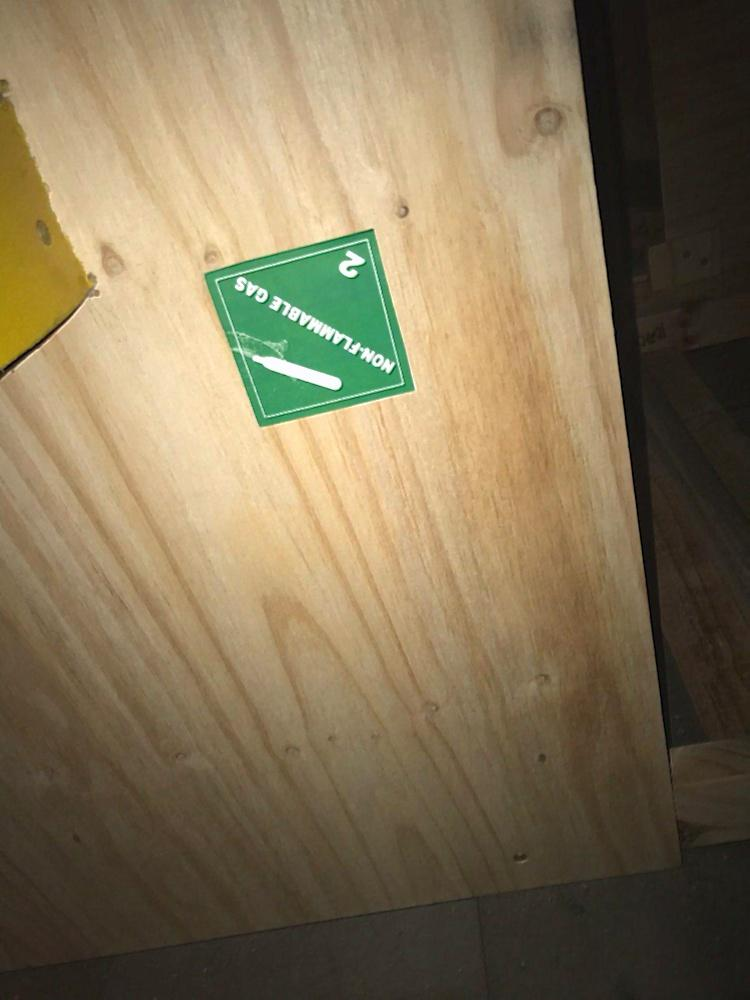non-flammable-gas: (203, 228, 417, 431)
